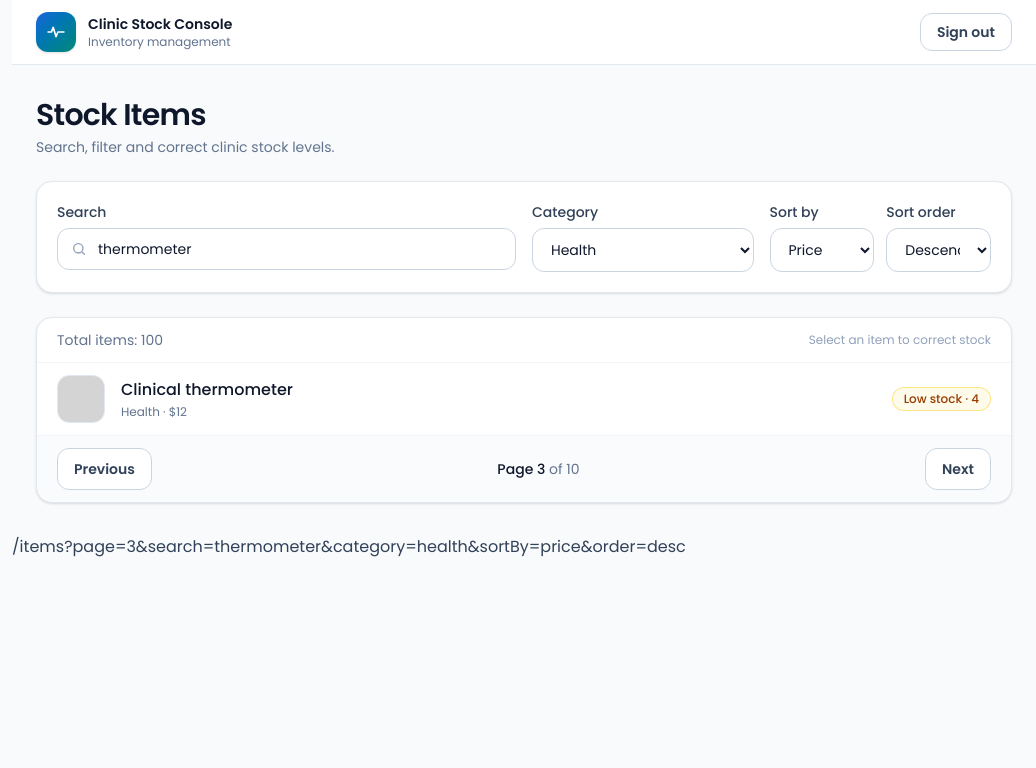
it: ItemsPage states and URL state › opens an item at a shareable route while preserving list state
Step 1. Click the button "Clinical thermometer health · $12 Low stock · 4" → x=81, y=399, box [37, 363, 1011, 435]
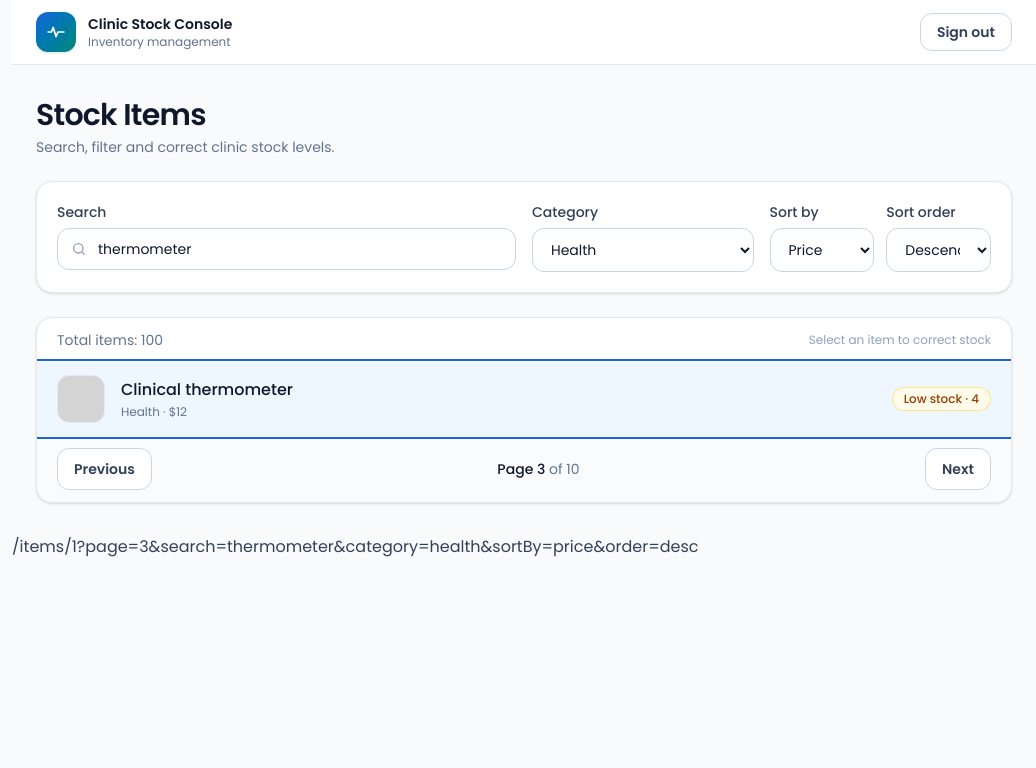
Now the text with test id "location" reads "/items/1?page=3&search=thermometer&category=health&sortBy=price&order=desc", box [12, 535, 698, 558]
